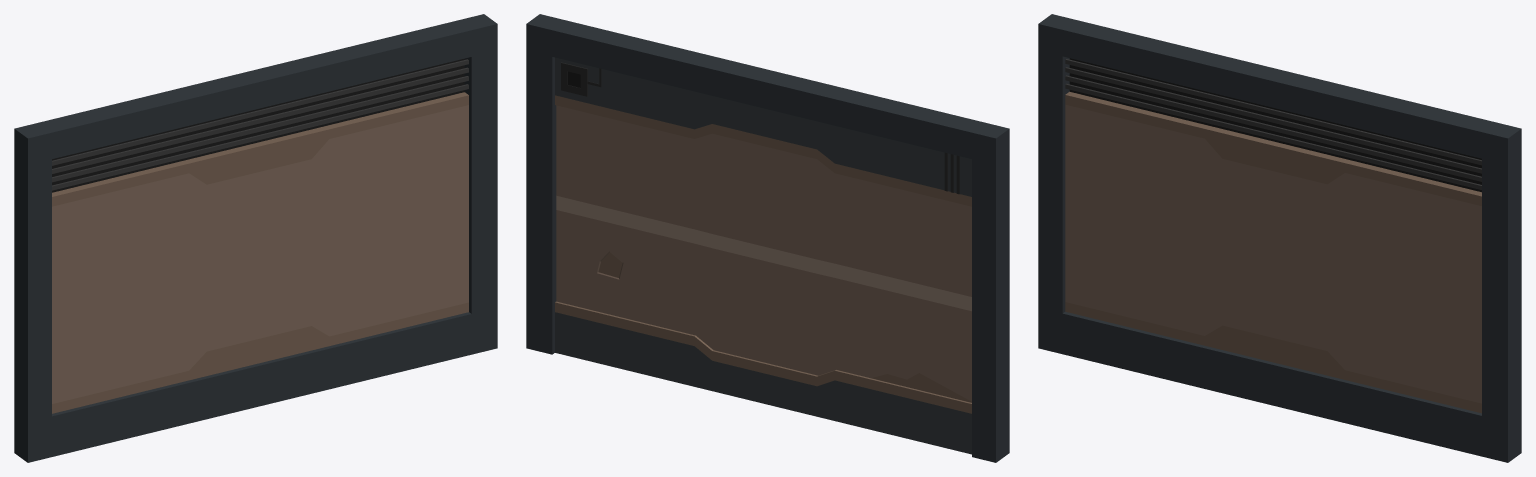
Rendered from SM_BuildingPart_25.fbx.
3 renders of one model, left to right at view 1: azimuth 30°, elevation 25°; view 2: azimuth 150°, elevation 25°; view 3: azimuth 330°, elevation 25°, orthographic.
Visible parts, largest first — view 1: SM_BuildingPart_25; view 2: SM_BuildingPart_25; view 3: SM_BuildingPart_25.
Part boxes in pixels (x1=…): SM_BuildingPart_25: x1=14, y1=14, x2=497, y2=462; SM_BuildingPart_25: x1=526, y1=14, x2=1009, y2=462; SM_BuildingPart_25: x1=1038, y1=14, x2=1521, y2=462.
Bounding box in the file's own units: 500 × 330 × 25.
